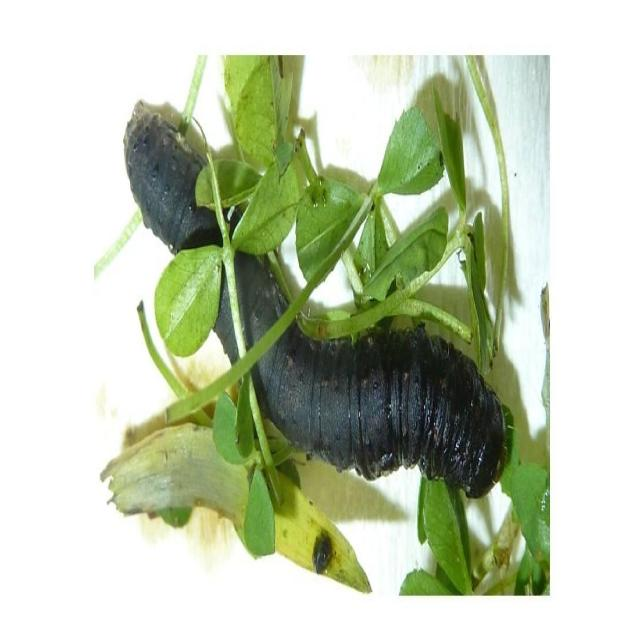black cutworm: (120, 88, 512, 513)
